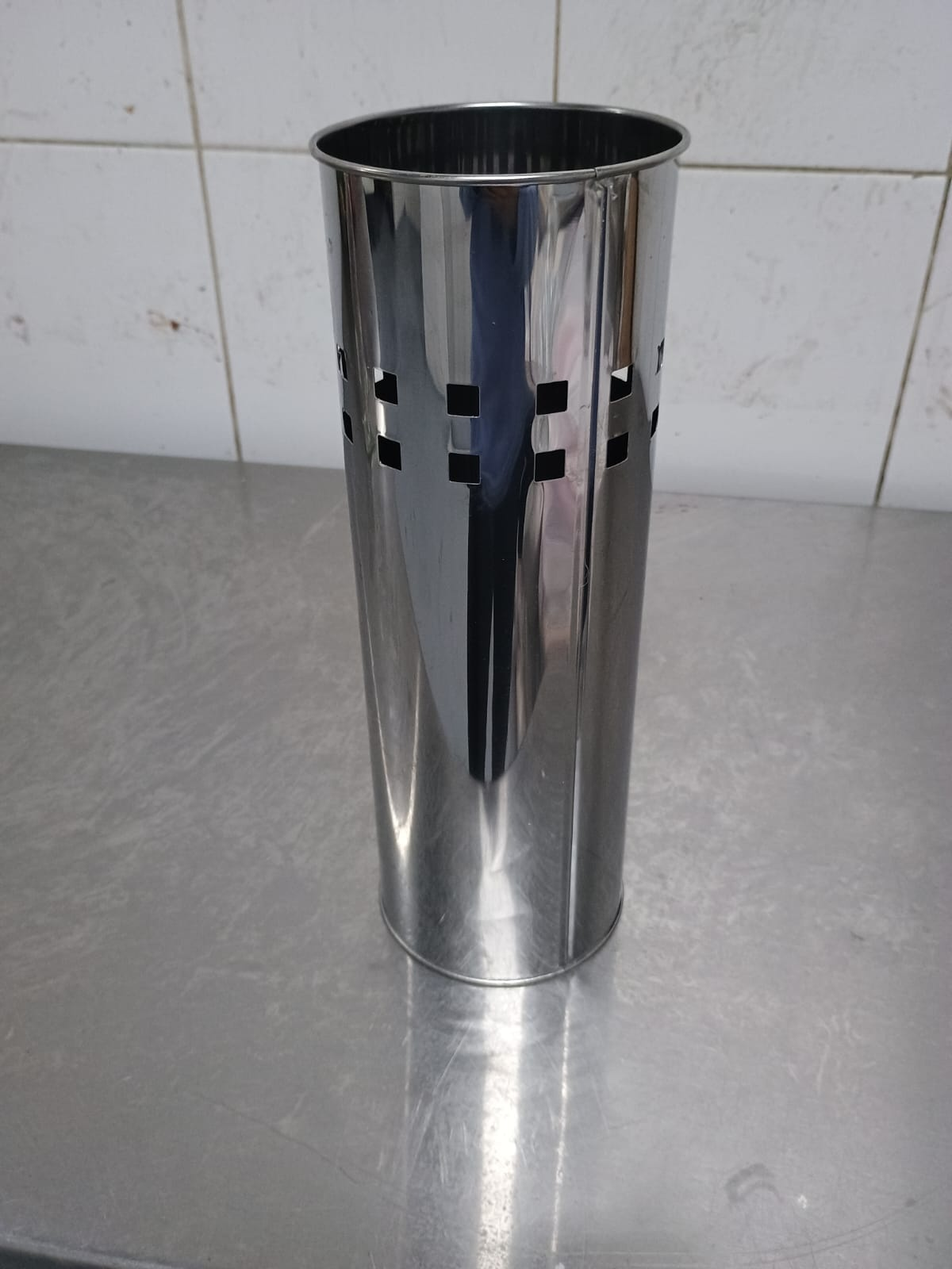Metal: (310, 103, 692, 986)
